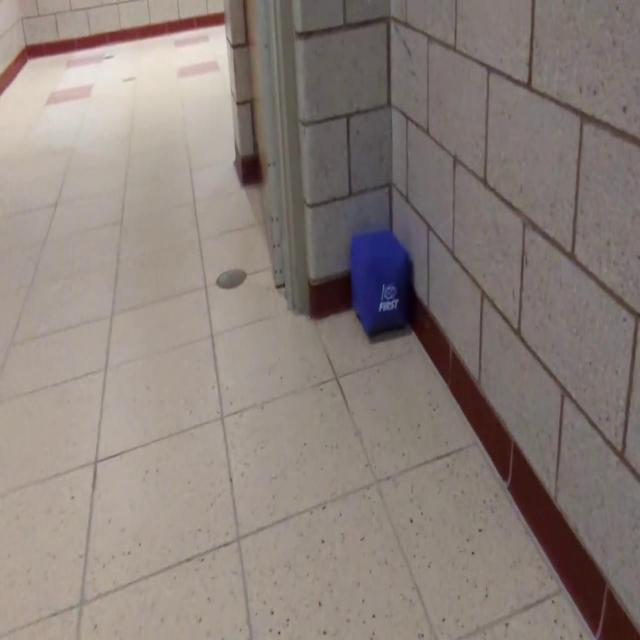frc_cube: (351, 233, 409, 343)
